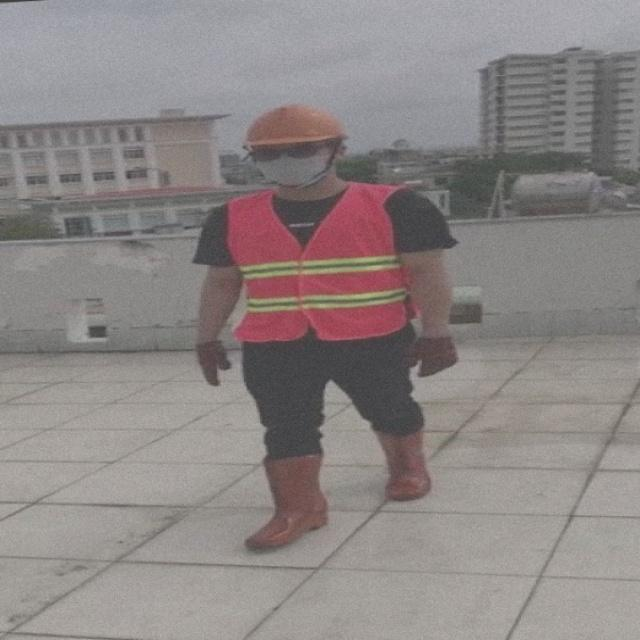helmet: (241, 102, 356, 154)
safety_vest: (218, 177, 418, 349)
